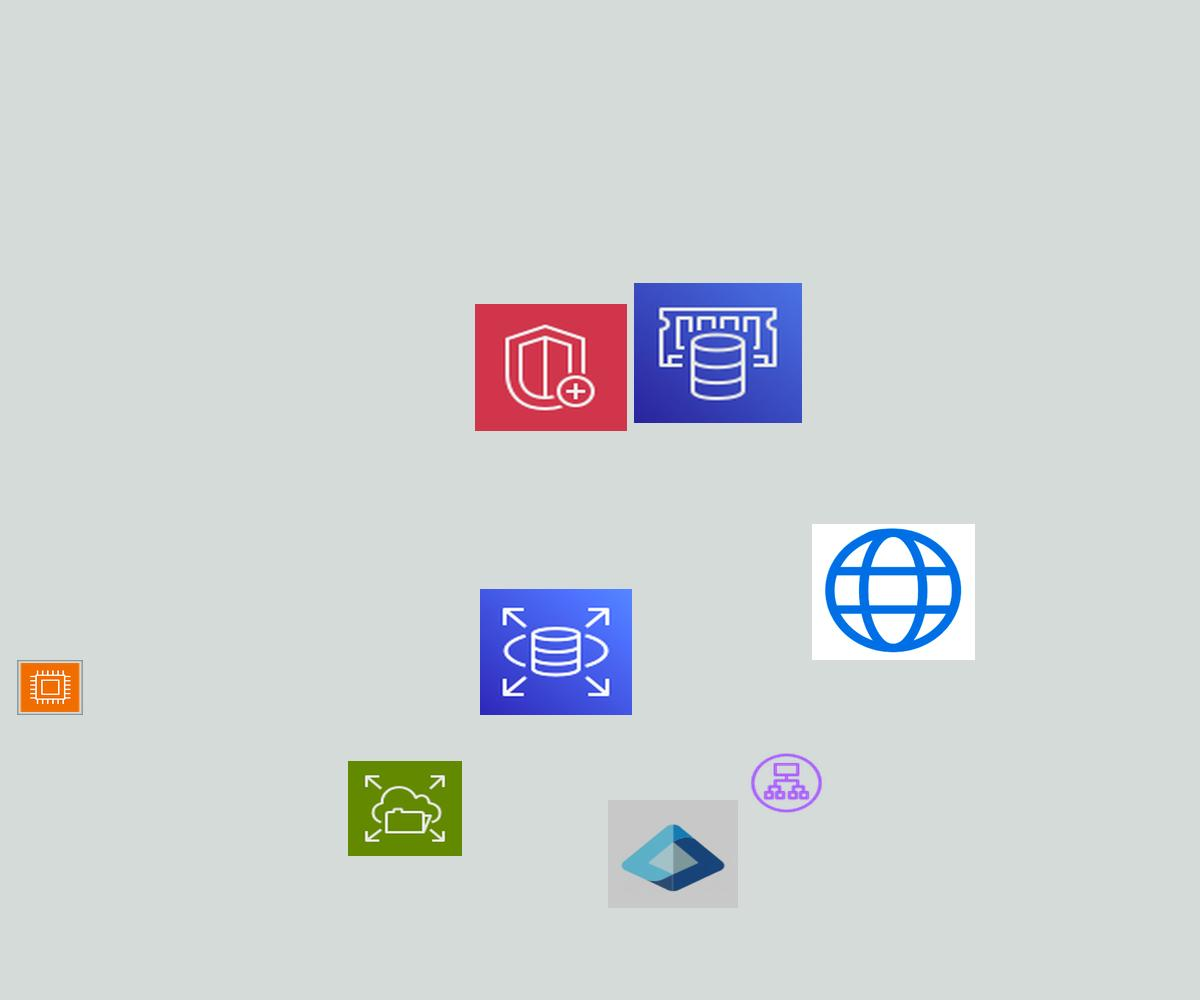AWS-Category_Compute: (17, 660, 83, 715)
AWS-EFS: (348, 761, 462, 856)
AWS-ElastiCache: (634, 283, 802, 423)
AWS-RDS: (480, 589, 632, 715)
AWS-Res_Elastic-Load-Balancing_Application-Load-Balancer: (748, 751, 825, 815)
AWS-Shield: (475, 304, 627, 431)
Azure_http: (812, 524, 975, 660)
Azure_microsoft_entra: (608, 800, 738, 908)
